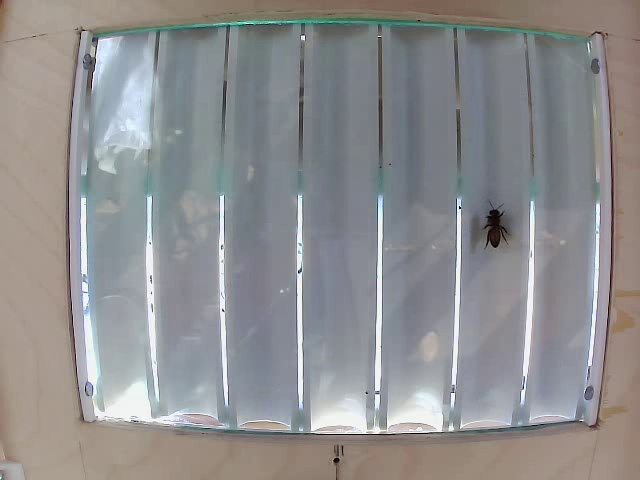bee: (475, 202, 502, 249)
